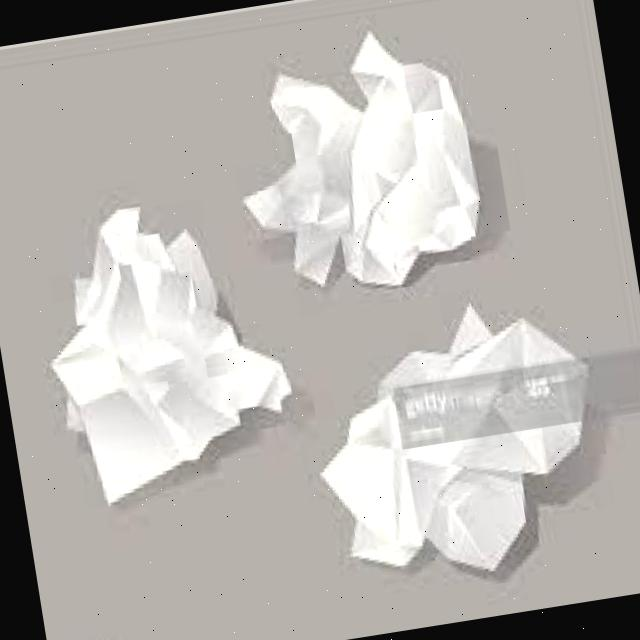trash: (297, 283, 615, 589), (25, 182, 301, 510), (216, 12, 490, 308)
